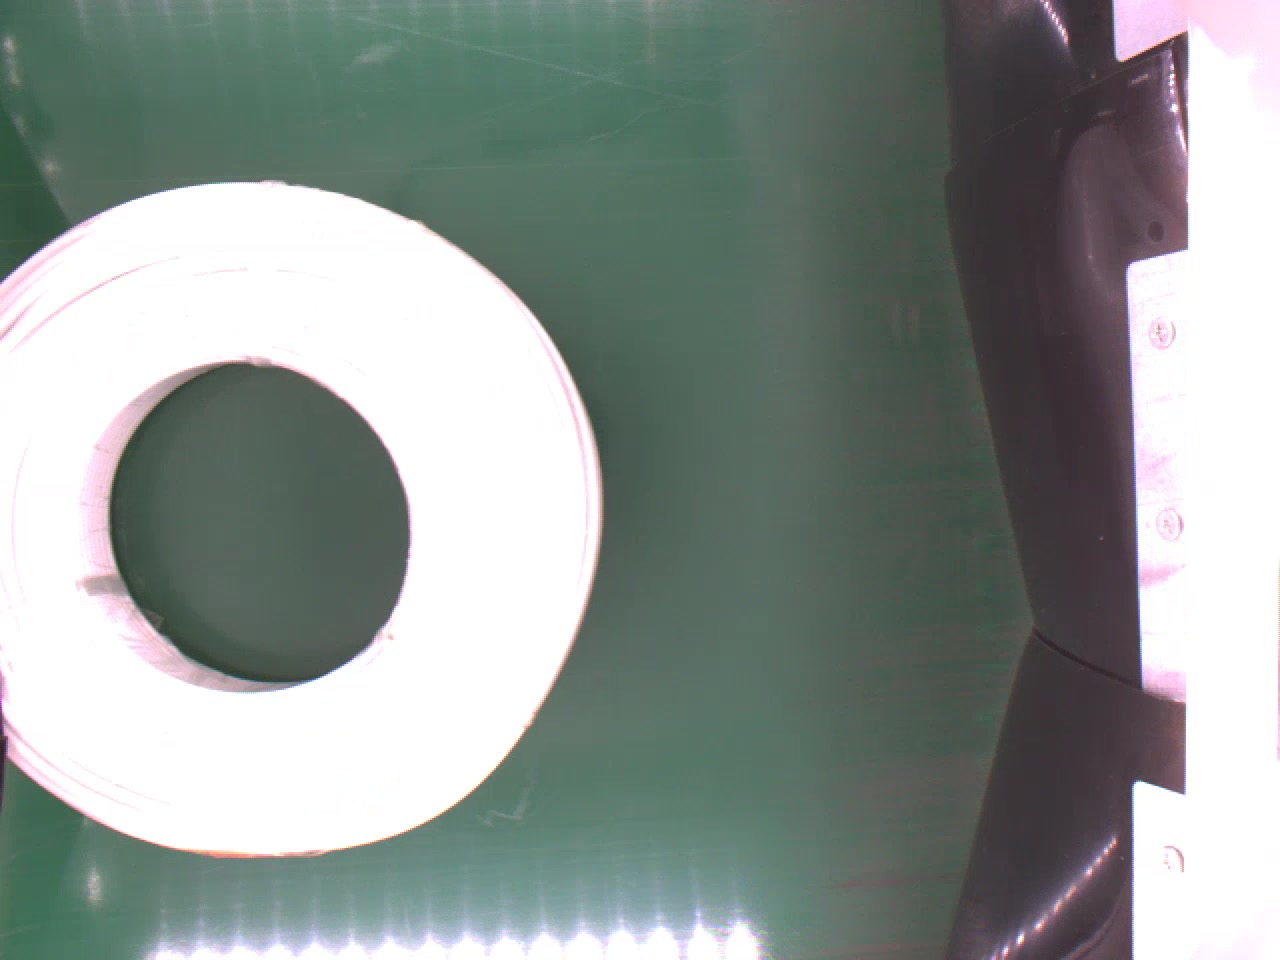white: (0, 177, 612, 862)
